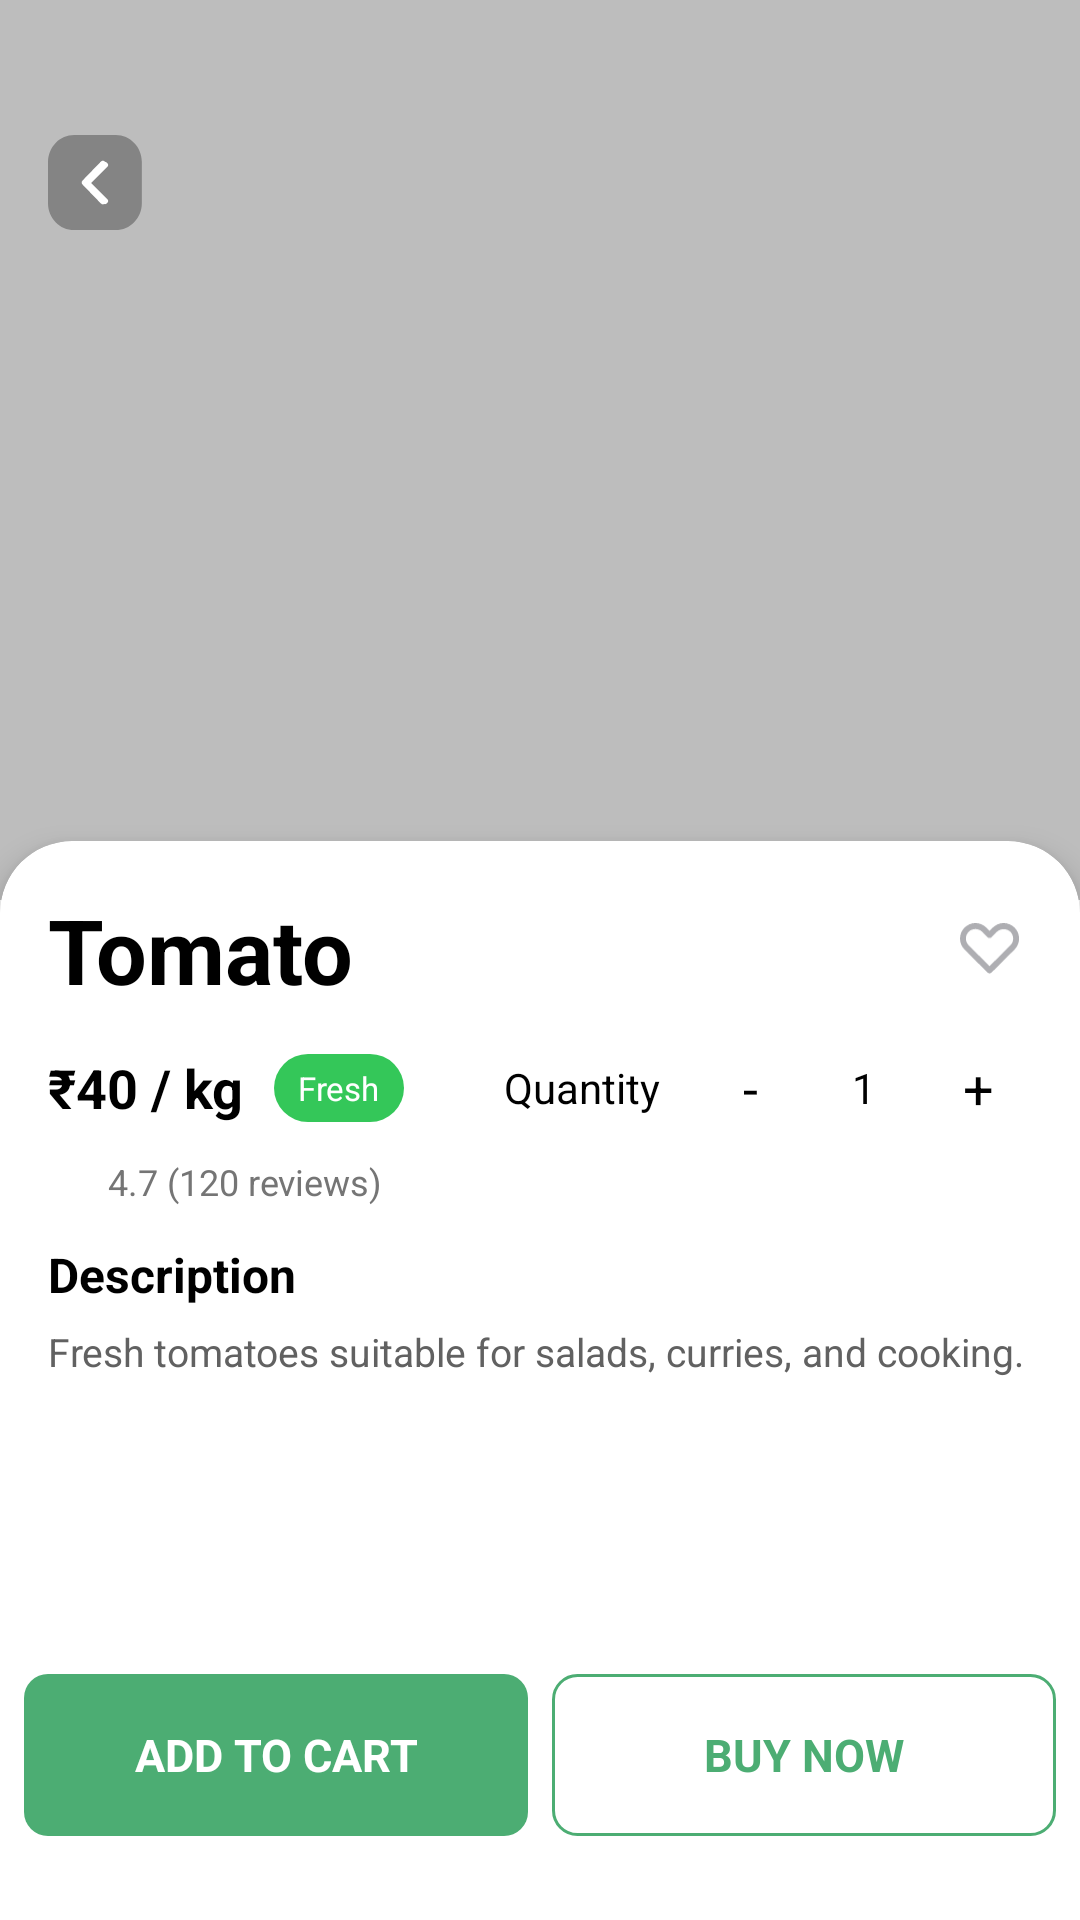

Where icons sit on this 1080 × 1920 app screen, as (x1, y1, x2, y2):
back arrow: (48, 135, 142, 230)
wishlisticon: (960, 923, 1019, 974)
